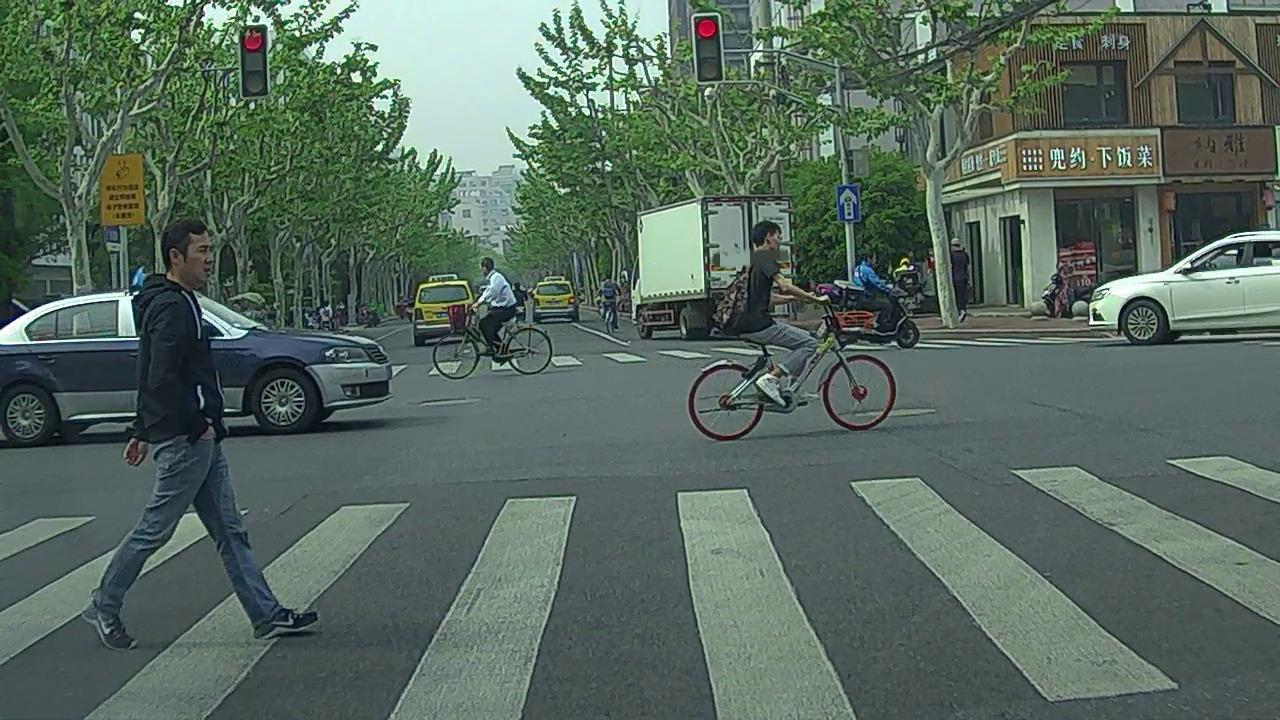traffic_light: (695, 12, 724, 82), (240, 23, 267, 97)
